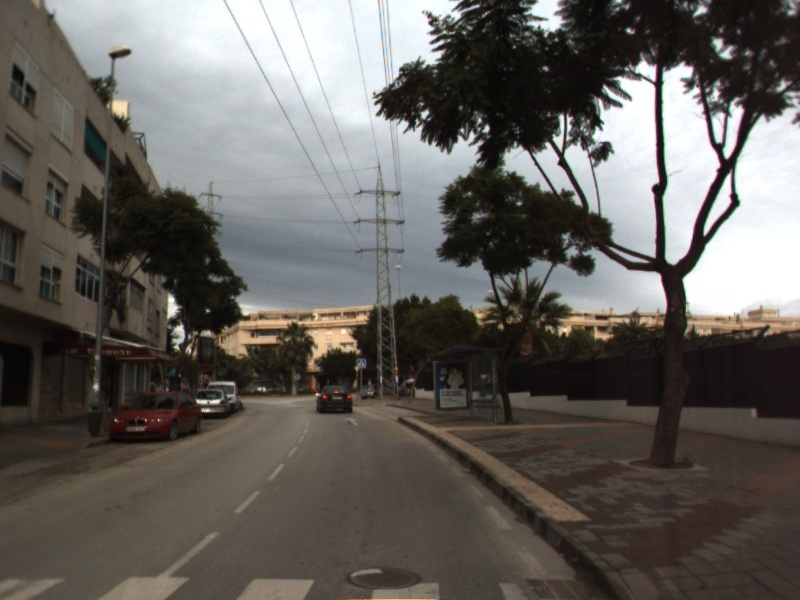STRAIGHT: (341, 415, 361, 428)
